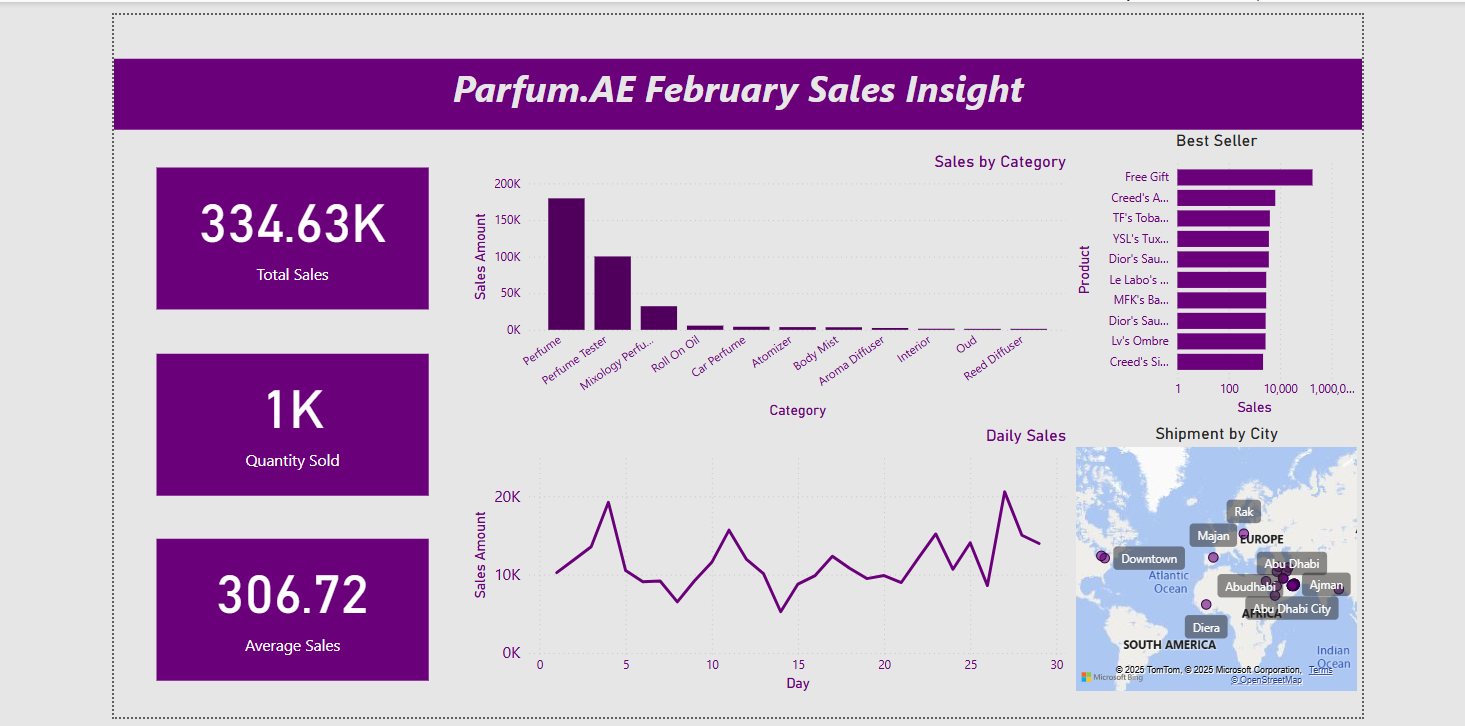

The dashboard page shown, as its layout file describes it:
{"tool":"powerbi","page":{"name":"Page 1","canvas":[1280,720],"ordinal":0},"visuals":[{"type":"clusteredColumnChart","title":"Sales by Category","fields":{"Category":["Order Custom Report - February.Variant"],"Y":["Sum(Order Custom Report - February.Total)"]},"box":[363,140.3,618.8,279.2],"z":0},{"type":"textbox","box":[0,45.4,1280.3,72.9],"z":1000},{"type":"cardVisual","title":"Unit Sold","fields":{"Data":["Sum(Order Custom Report - February.Order-Line_items-Quantity)"]},"box":[44,347.9,279.2,145.8],"z":2000},{"type":"cardVisual","title":"Unit Sold","fields":{"Data":["Sum(Order Custom Report - February.Total)"]},"box":[44,156.8,279.2,145.8],"z":3000},{"type":"cardVisual","title":"Unit Sold","fields":{"Data":["Avg(Order Custom Report - February.Total)"]},"box":[44,537.7,279.2,145.8],"z":4000},{"type":"lineChart","title":"Daily Sales","fields":{"Category":["Order Custom Report - February.Order-Created At.Variation.Date Hierarchy.Day"],"Y":["Sum(Order Custom Report - February.Total)"]},"box":[362.2,420.2,618.9,277.8],"z":5000},{"type":"clusteredBarChart","title":"Best Seller","fields":{"Category":["Order Custom Report - February.Items_Title"],"Y":["Sum(Order Custom Report - February.Total)"]},"box":[982.5,118,297.8,297.8],"z":6000},{"type":"map","fields":{"Category":["Order Custom Report - February.Order-Shipping_address-City"]},"box":[982.1,419.1,297.9,279.4],"z":6001}]}

Visuals, with their boxes on the page's 1280x720 design canvas (x1, y1, x2, y2). These are canvas units, not pixel positions in the 1465x726 screenshot, which may show the page scaled, cropped or inside an application window:
"Sales by Category" clusteredColumnChart: left=363, top=140, right=982, bottom=420
textbox: left=0, top=45, right=1280, bottom=118
"Unit Sold" cardVisual: left=44, top=348, right=323, bottom=494
"Unit Sold" cardVisual: left=44, top=157, right=323, bottom=303
"Unit Sold" cardVisual: left=44, top=538, right=323, bottom=684
"Daily Sales" lineChart: left=362, top=420, right=981, bottom=698
"Best Seller" clusteredBarChart: left=982, top=118, right=1280, bottom=416
map - Order Custom Report - February.Order-Shipping_address-City: left=982, top=419, right=1280, bottom=698
